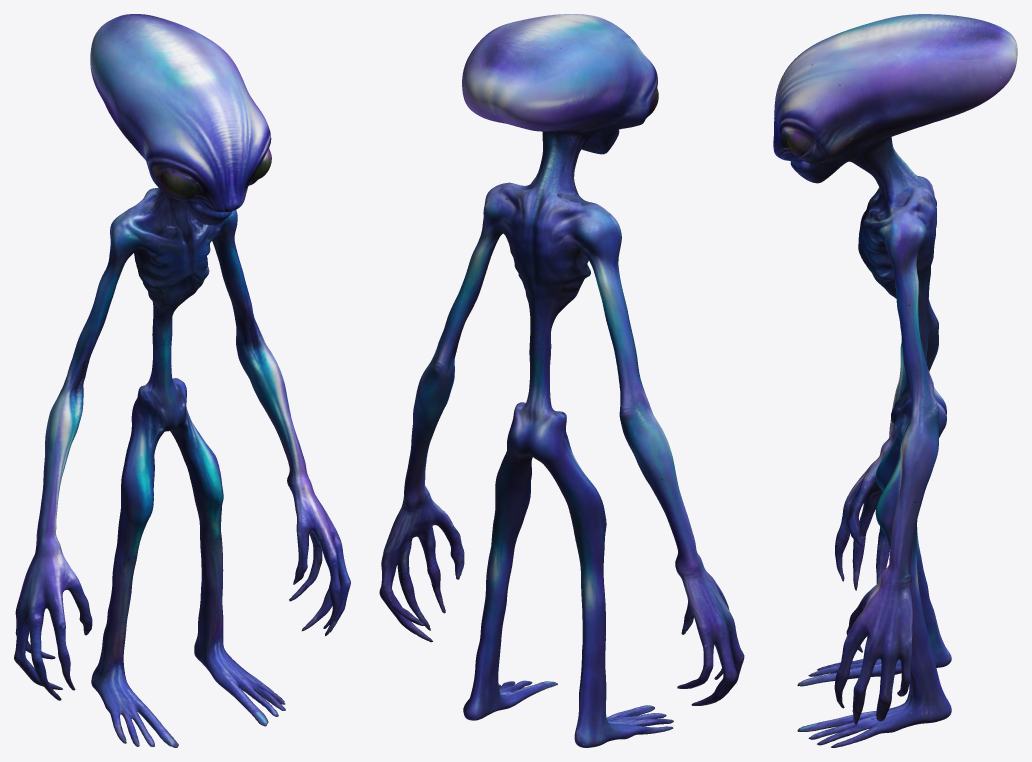
File: alien.glb
3 views of the same model, side by side, from view 1: azimuth 30°, elevation 25°; view 2: azimuth 150°, elevation 25°; view 3: azimuth 270°, elevation 25° (orthographic). The views are drawn at different scales.
Visible parts, largest first — view 1: Object_4, Object_5; view 2: Object_4, Object_5; view 3: Object_4, Object_5.
Boxes of the visible parts, x1,y1,x2,y2 form: Object_4: (14, 14, 350, 747); Object_5: (14, 14, 344, 747); Object_4: (379, 14, 743, 746); Object_5: (381, 14, 744, 747); Object_4: (773, 14, 1017, 746); Object_5: (775, 14, 1017, 747).
Size of the model in its own units: 1.05 by 2 by 0.6469.
1 material, 1 textured.
